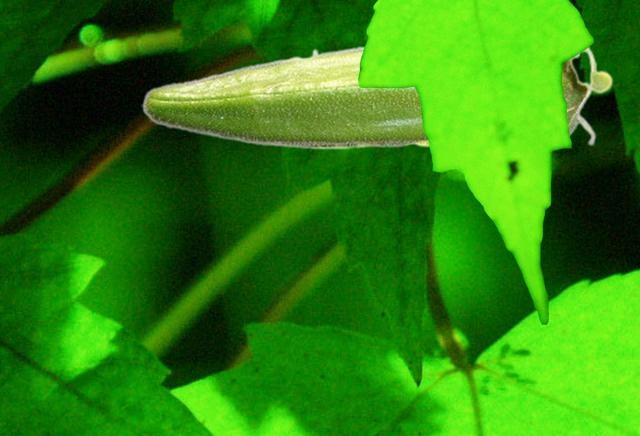okra: (141, 42, 612, 149)
